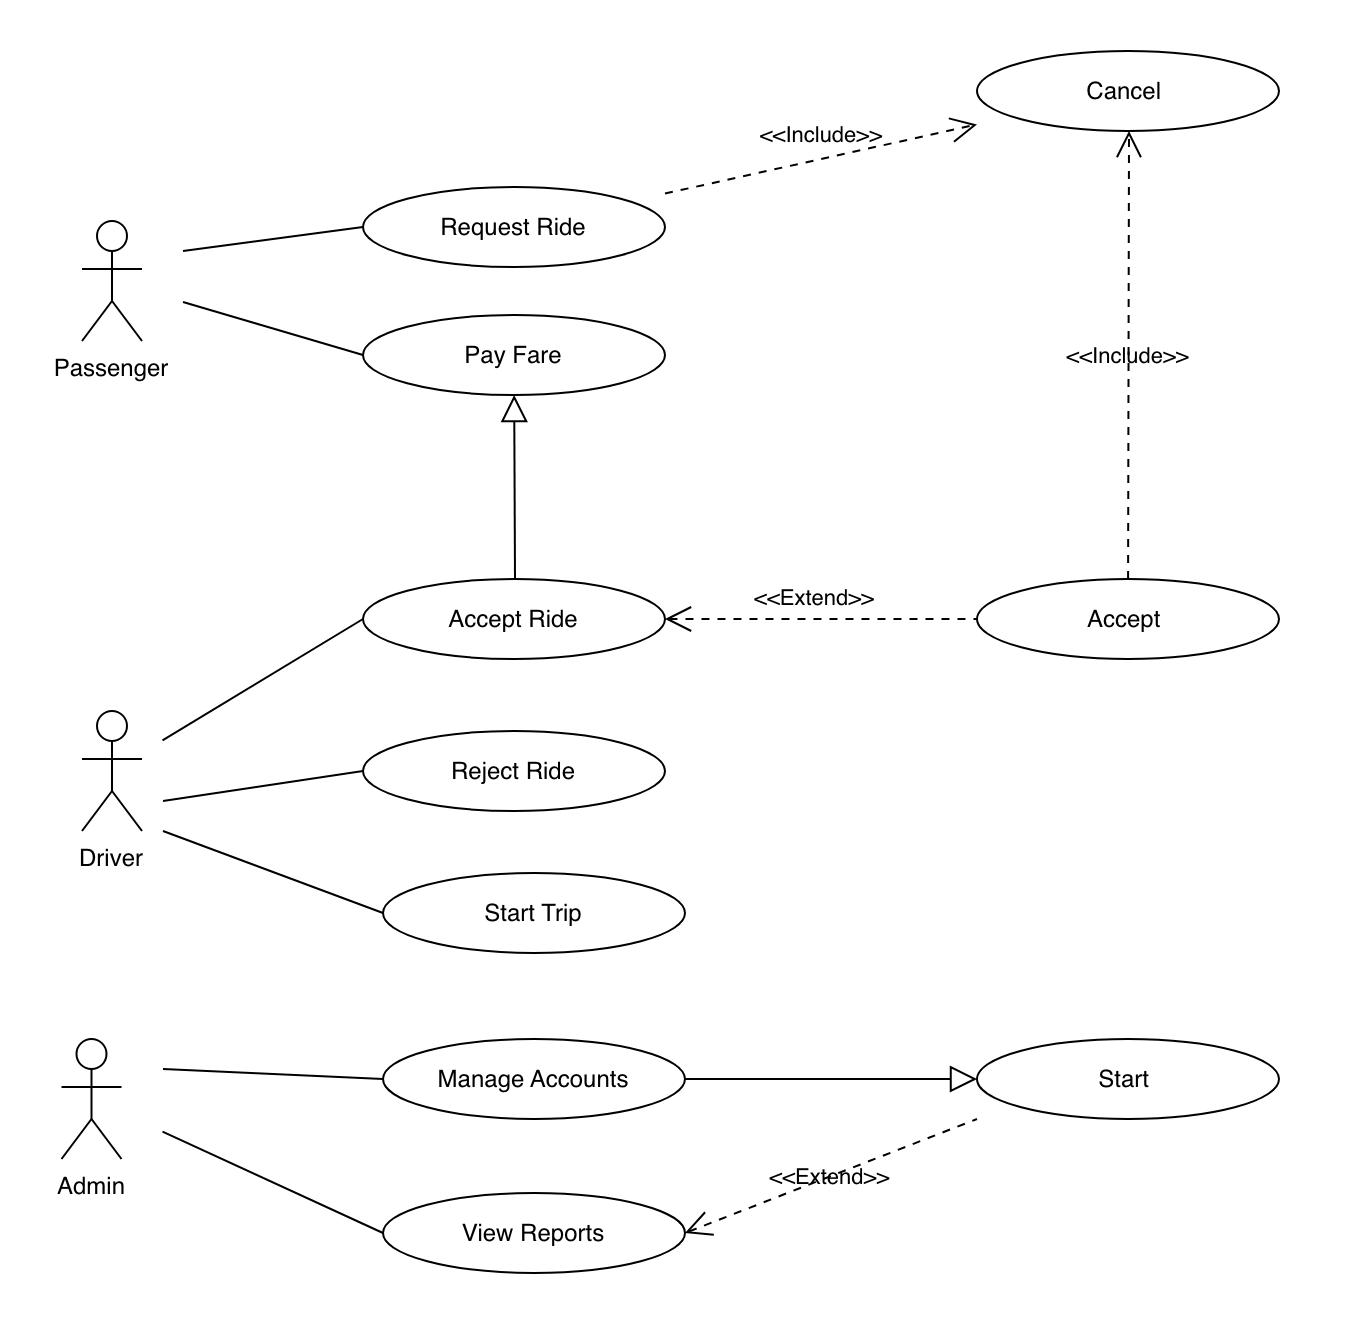actor: (53, 1031, 131, 1165), (73, 214, 149, 347), (78, 703, 147, 839)
association: (684, 1116, 976, 1245), (155, 1121, 381, 1241), (660, 117, 980, 196), (164, 620, 356, 741), (164, 831, 378, 914), (1112, 131, 1147, 586), (179, 296, 360, 366), (668, 604, 976, 637), (686, 1063, 974, 1095), (162, 768, 362, 806), (498, 395, 534, 577), (155, 1062, 384, 1086), (181, 224, 357, 254)
text: (431, 1060, 641, 1094), (453, 1210, 618, 1253), (431, 208, 593, 250), (443, 755, 593, 790), (749, 577, 882, 615), (51, 349, 177, 387), (445, 602, 580, 637), (470, 892, 590, 931), (452, 336, 574, 371), (768, 1159, 897, 1189), (1065, 339, 1195, 367), (757, 119, 886, 146), (1076, 75, 1172, 108), (70, 843, 157, 878), (54, 1168, 133, 1204), (1085, 604, 1169, 637), (1090, 1064, 1165, 1100)
use_case: (357, 574, 673, 666), (974, 1034, 1282, 1126), (360, 726, 672, 816), (376, 869, 688, 959), (972, 574, 1284, 664), (357, 311, 671, 400), (381, 1188, 688, 1277), (974, 48, 1282, 136), (378, 1035, 689, 1122), (360, 186, 668, 273)
